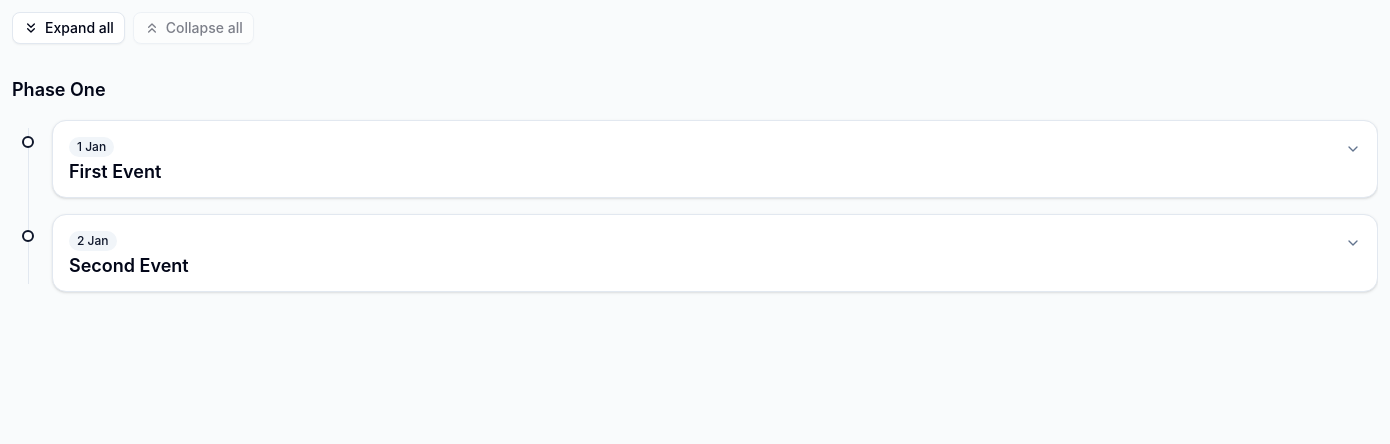
Scenario: Timeline expand/collapse all › expand all opens every card, collapse all closes them
The image size is (1390, 444).
Click the button "Expand all": (68, 28) [12,12,125,44]
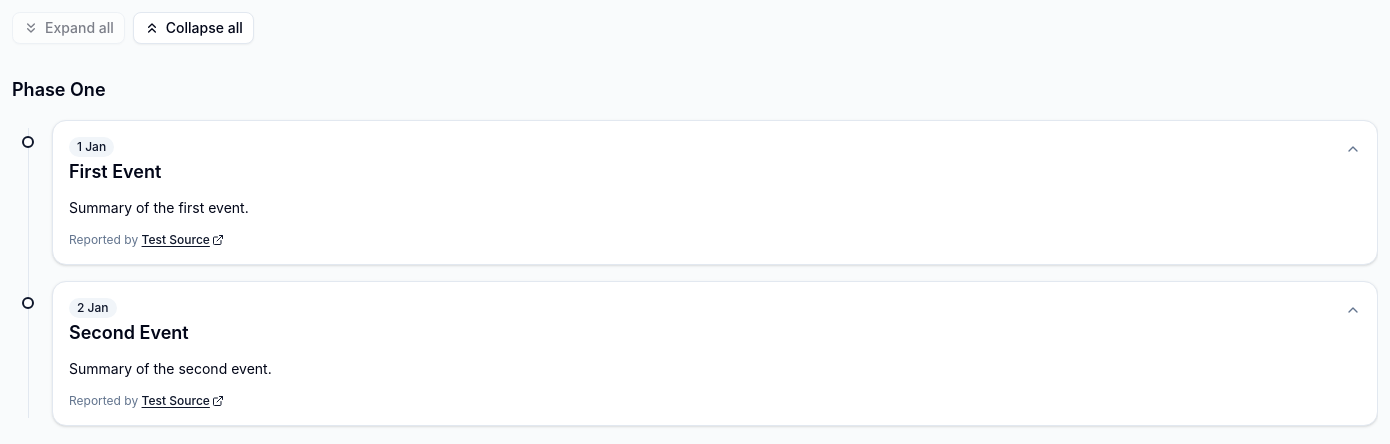
Now the button "1 Jan First Event" is expanded, box [53,121,1377,197]
Now the button "2 Jan Second Event" is expanded, box [53,282,1377,358]
Click the button "Collapse all": (193, 28) [133,12,254,44]
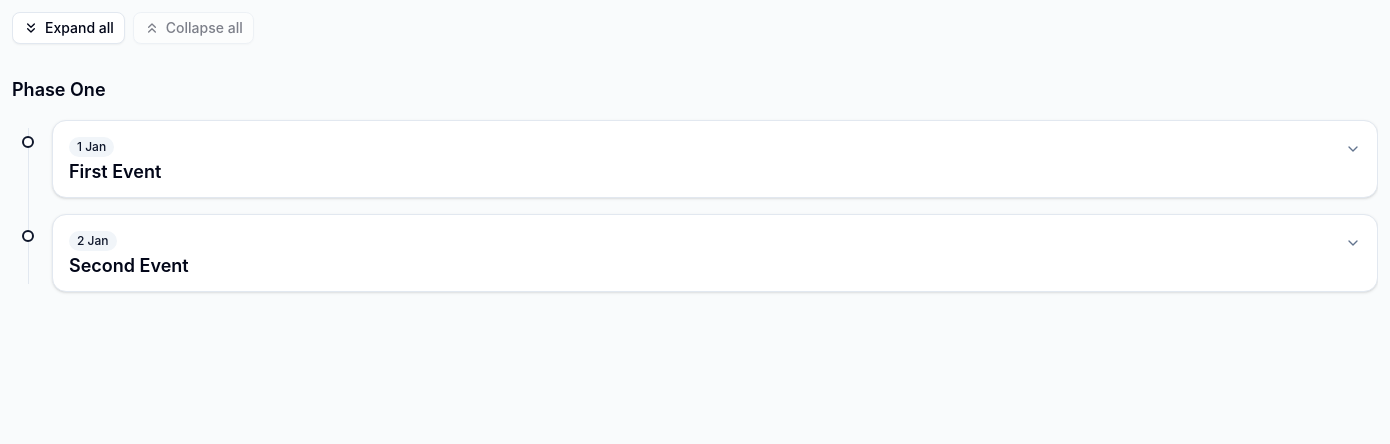
Now the button "1 Jan First Event" is collapsed, box [53,121,1377,197]
Now the button "2 Jan Second Event" is collapsed, box [53,215,1377,291]
